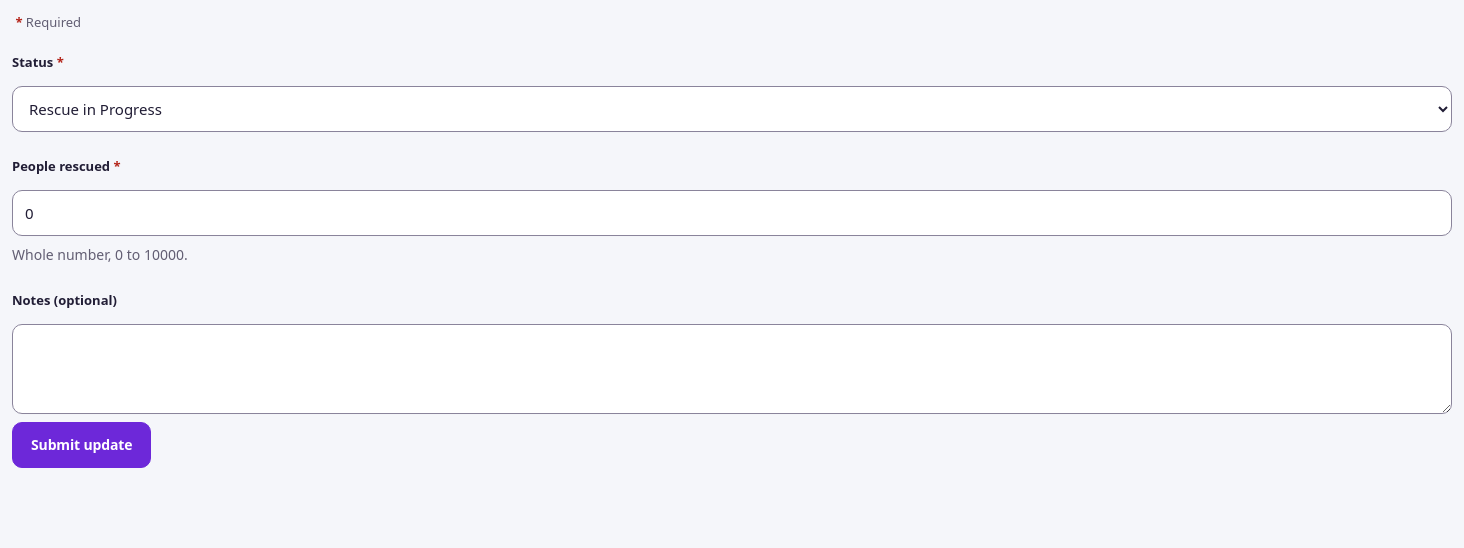
Test: OperationForm after a same-account sign-in › gives the form back when the session changes during a GPS fix, without posting
In the text box labelled "Notes (optional)": coordinates (732, 369) [12,324,1452,414], type "Still at the site"
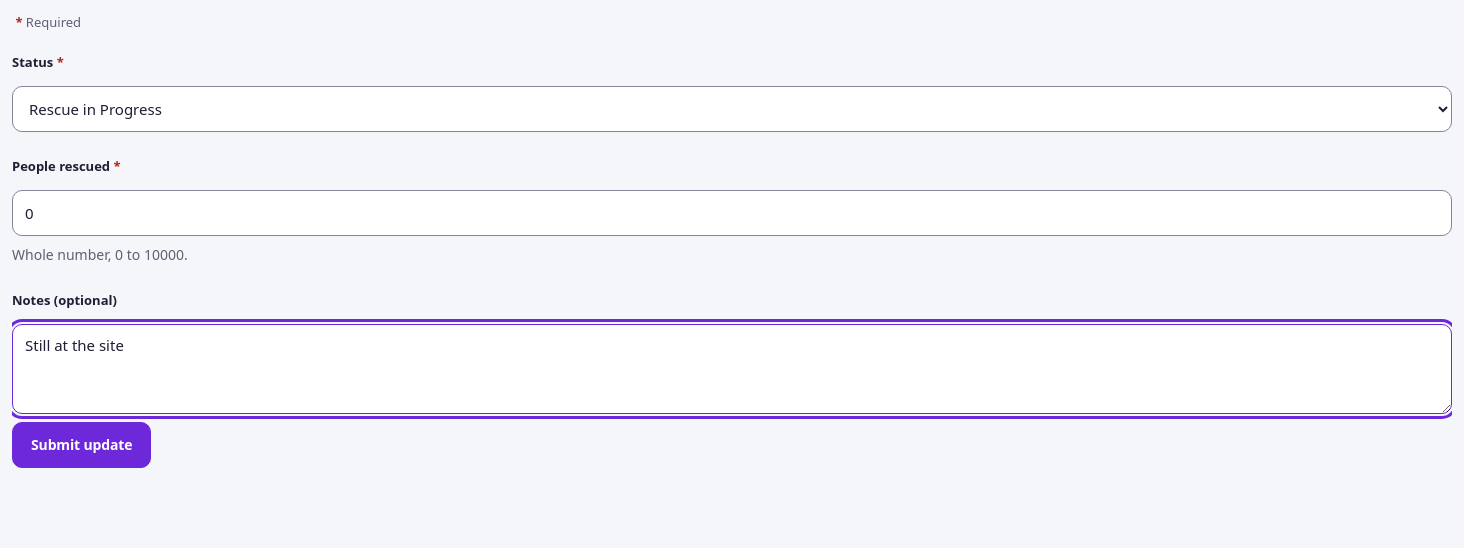
Click the button "Submit update": coordinates (82, 445) [12,422,151,468]
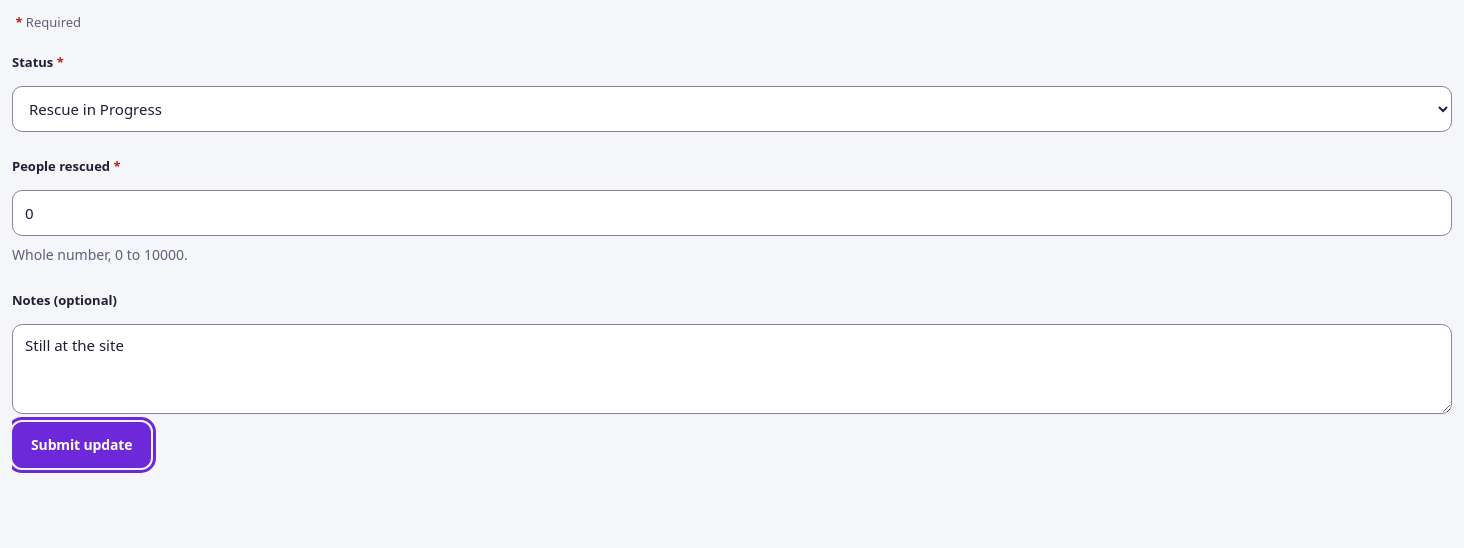
Click the button "Submit update": coordinates (82, 445) [12,422,151,468]
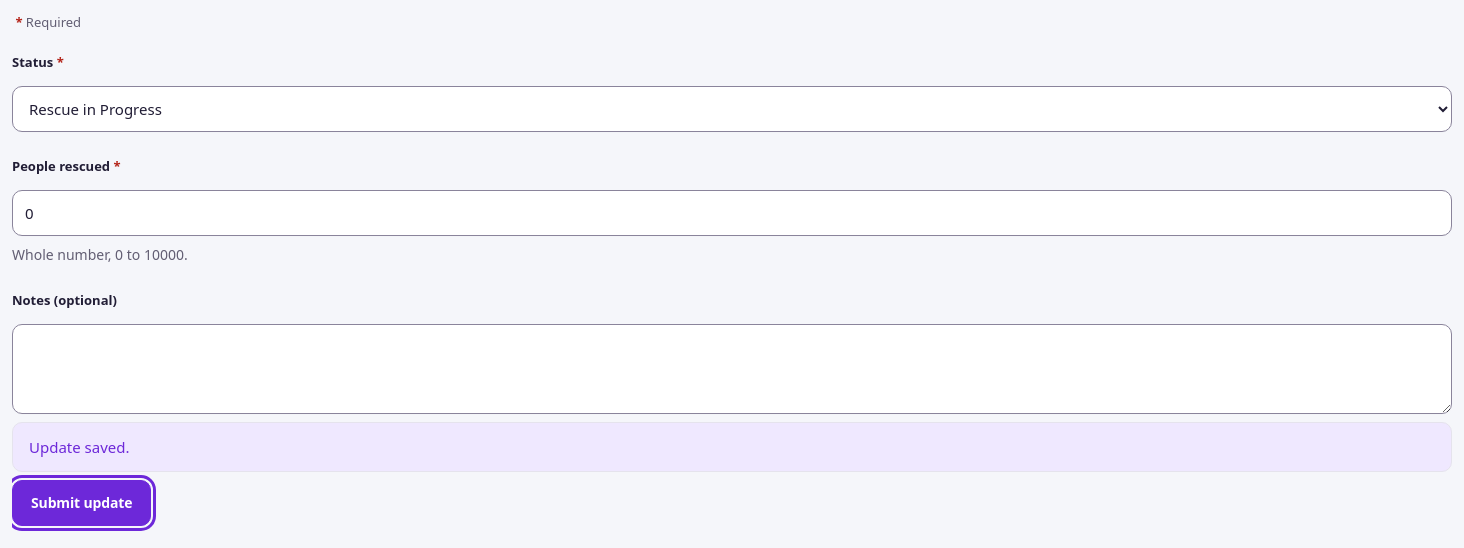
Result: the text "Update saved." is shown at [12,422,1452,472]
